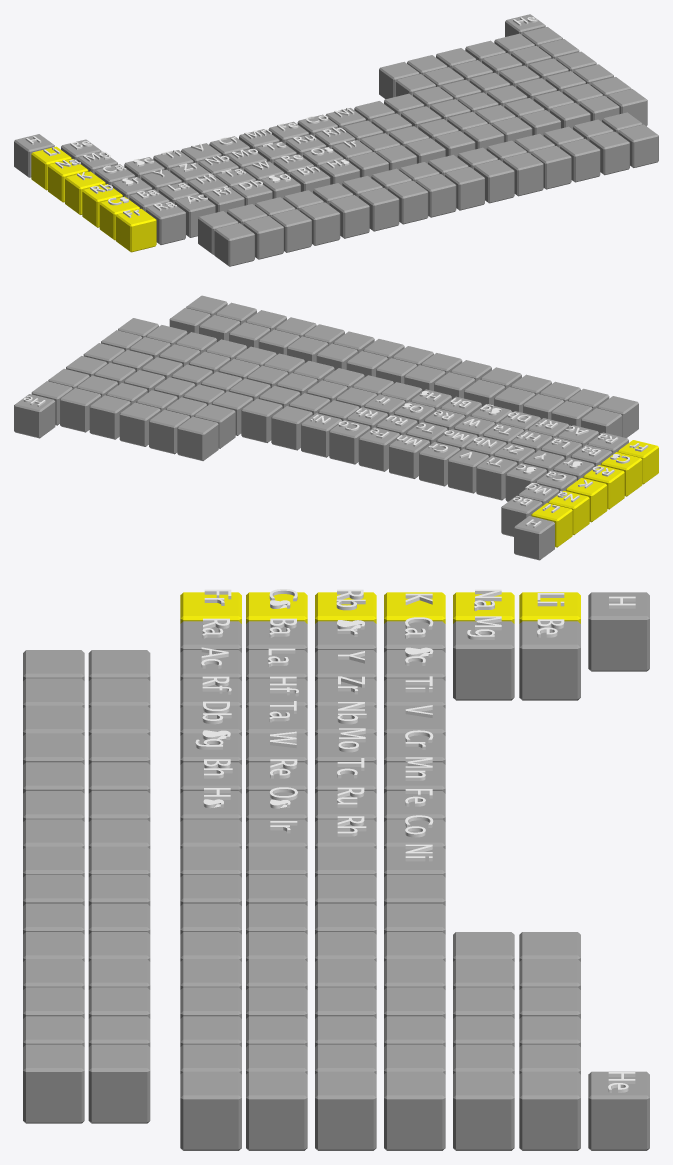
The model's file is Periodic_Table_3D.fbx.
3 renders of one model, top to bottom at view 1: azimuth 30°, elevation 25°; view 2: azimuth 150°, elevation 25°; view 3: azimuth 270°, elevation 25°, orthographic. The views are drawn at different scales.
Parts seen in each view (by area): view 1: pCube142, Fr_geo, pCube141, pCube138, pCube140, pCube139, pCube129, pCube135, pCube132, pCube137, pCube131, pCube136 (+108 smaller); view 2: pCube23, H_geo, pCube18, pCube26, pCube70, pCube28, pCube72, pCube27, pCube24, pCube63, pCube58, pCube60 (+107 smaller); view 3: pCube145, pCube116, pCube29, pCube83, pCube47, pCube107, pCube71, pCube137, H_geo, pCube35, pCube18, pCube53 (+108 smaller).
Boxes of the visible parts, x1=… form: pCube142: x1=214, y1=223, x2=254, y2=266; Fr_geo: x1=116, y1=208, x2=156, y2=252; pCube141: x1=358, y1=188, x2=399, y2=231; pCube138: x1=589, y1=131, x2=629, y2=175; pCube140: x1=474, y1=159, x2=514, y2=203; pCube139: x1=387, y1=180, x2=428, y2=224; pCube129: x1=329, y1=195, x2=369, y2=238; pCube135: x1=503, y1=152, x2=543, y2=196; pCube132: x1=560, y1=138, x2=600, y2=182; pCube137: x1=618, y1=124, x2=658, y2=167; pCube131: x1=243, y1=216, x2=283, y2=259; pCube136: x1=299, y1=202, x2=340, y2=245; pCube23: x1=177, y1=416, x2=218, y2=460; H_geo: x1=514, y1=516, x2=554, y2=560; pCube18: x1=14, y1=394, x2=55, y2=438; pCube26: x1=89, y1=395, x2=130, y2=439; pCube70: x1=241, y1=398, x2=282, y2=442; pCube28: x1=119, y1=402, x2=160, y2=446; pCube72: x1=271, y1=406, x2=312, y2=450; pCube27: x1=60, y1=388, x2=101, y2=432; pCube24: x1=149, y1=409, x2=190, y2=454; pCube63: x1=358, y1=427, x2=399, y2=471; pCube58: x1=476, y1=456, x2=517, y2=500; pCube60: x1=448, y1=449, x2=488, y2=493; pCube145: x1=88, y1=1044, x2=150, y2=1123; pCube116: x1=180, y1=1071, x2=241, y2=1150; pCube29: x1=519, y1=1071, x2=580, y2=1150; pCube83: x1=315, y1=1071, x2=376, y2=1150; pCube47: x1=453, y1=1071, x2=514, y2=1150; pCube107: x1=246, y1=1071, x2=307, y2=1150; pCube71: x1=384, y1=1071, x2=445, y2=1150; pCube137: x1=23, y1=1044, x2=84, y2=1123; H_geo: x1=588, y1=592, x2=649, y2=671; pCube35: x1=519, y1=621, x2=580, y2=700; pCube18: x1=588, y1=1071, x2=649, y2=1150; pCube53: x1=453, y1=621, x2=514, y2=700.
Bounding box in the file's own units: 48.56 × 2.8 × 25.46.
